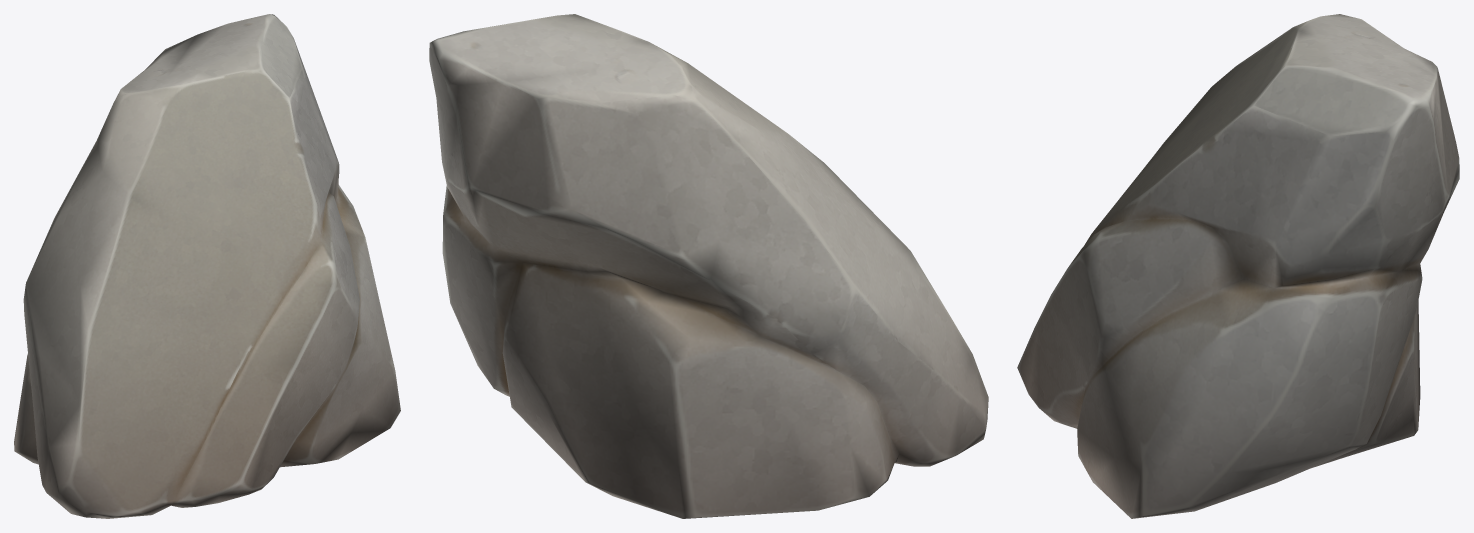
File: sylized_02.obj
The picture shows the model from 3 angles, left to right: view 1: azimuth 30°, elevation 25°; view 2: azimuth 150°, elevation 25°; view 3: azimuth 270°, elevation 25°; orthographic projection. The views are drawn at different scales.
Parts seen in each view (by area): view 1: SM_Rocks_04; view 2: SM_Rocks_04; view 3: SM_Rocks_04.
Boxes of the visible parts, x1,y1,x2,y2 form: SM_Rocks_04: [14, 14, 400, 518]; SM_Rocks_04: [429, 14, 988, 518]; SM_Rocks_04: [1017, 14, 1459, 518].
Size of the model in its own units: 190 by 170 by 159.
